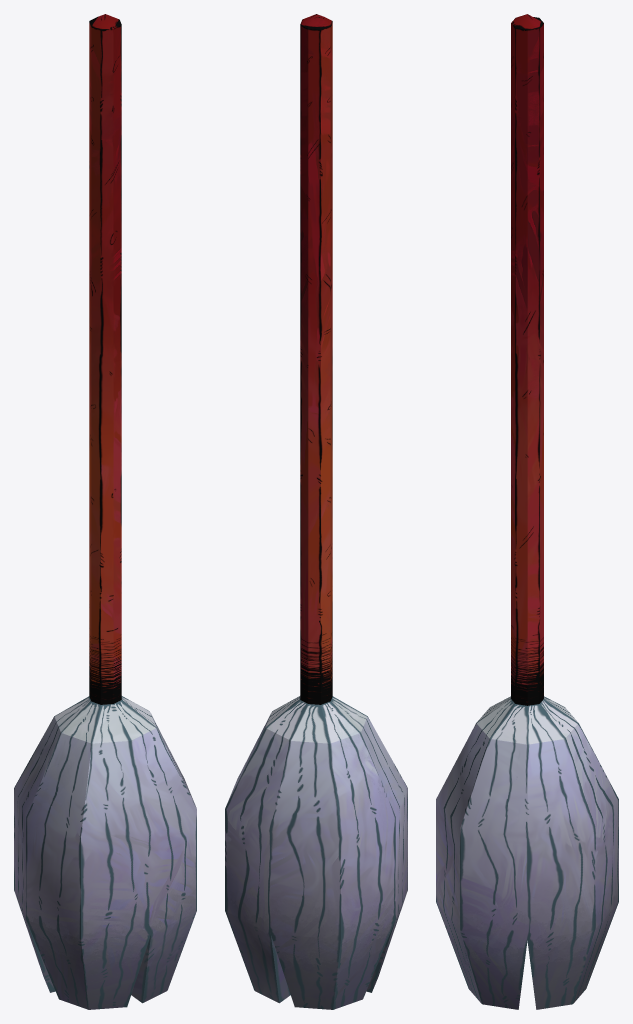
Rendered from Mop.fbx.
3 renders of one model, left to right at view 1: azimuth 30°, elevation 25°; view 2: azimuth 150°, elevation 25°; view 3: azimuth 270°, elevation 25°, orthographic.
Parts seen in each view (by area): view 1: Mop; view 2: Mop; view 3: Mop.
Boxes of the visible parts, x1,y1,x2,y2 form: Mop: [14, 14, 196, 1009]; Mop: [225, 14, 407, 1009]; Mop: [436, 14, 618, 1009].
Bounding box in the file's own units: 0.5985 × 3.51 × 0.5985.
Materials: 1 (1 with a texture image).
